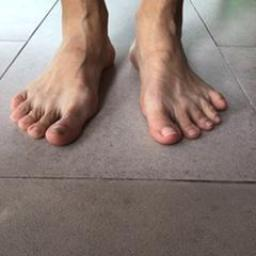Front View -Both Feet-: (2, 8, 253, 154)
